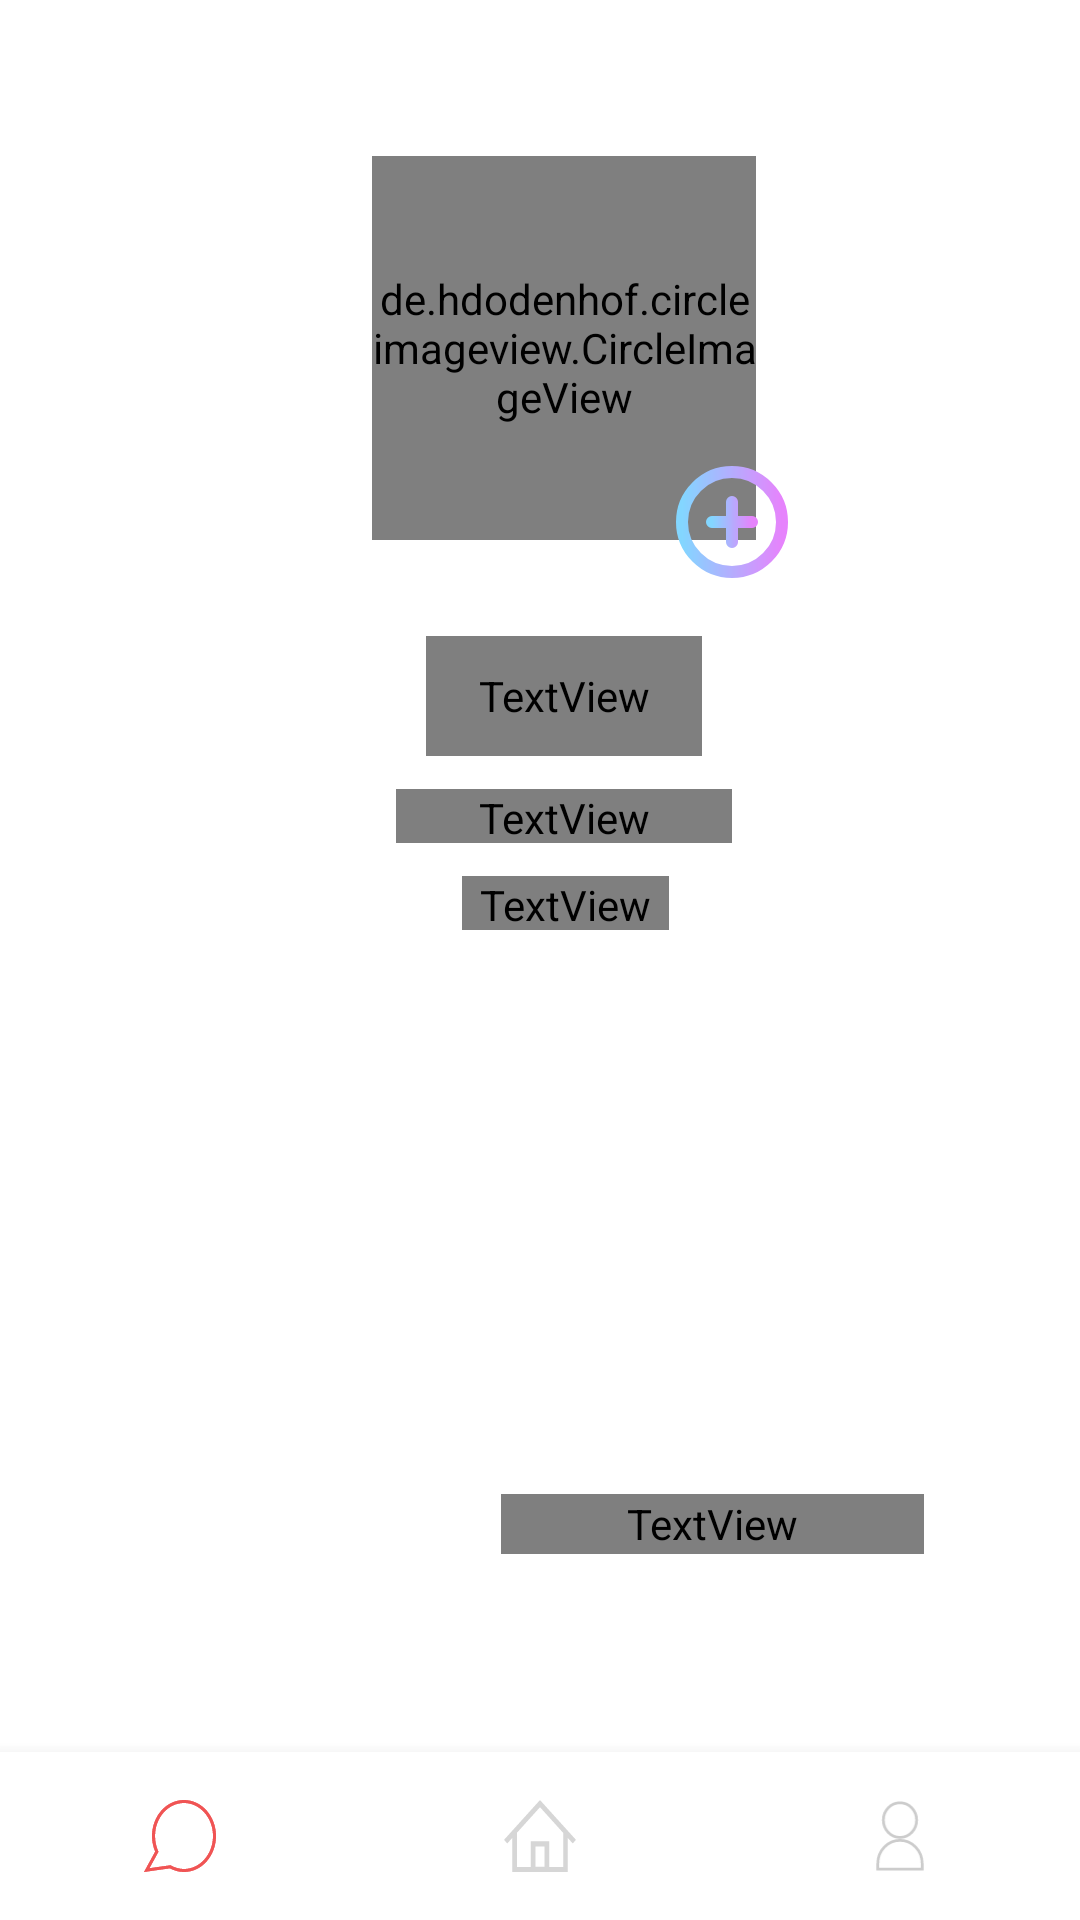

Icons on this 1080w x 1920h Android screen, each with its box as detection(x1, y1, x2, y2):
plus: detection(660, 450, 788, 578)
